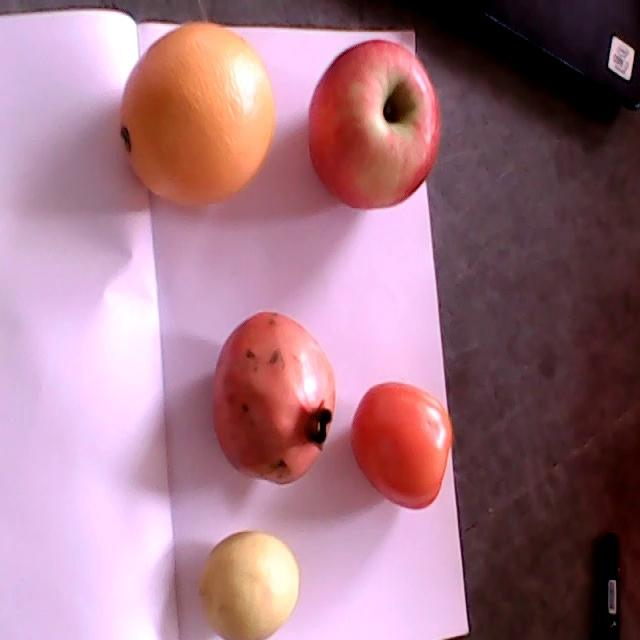apple: (308, 40, 441, 208)
lemon: (197, 531, 300, 639)
orange: (120, 22, 276, 204)
pomegranate: (211, 312, 336, 481)
tomato: (350, 382, 450, 509)
